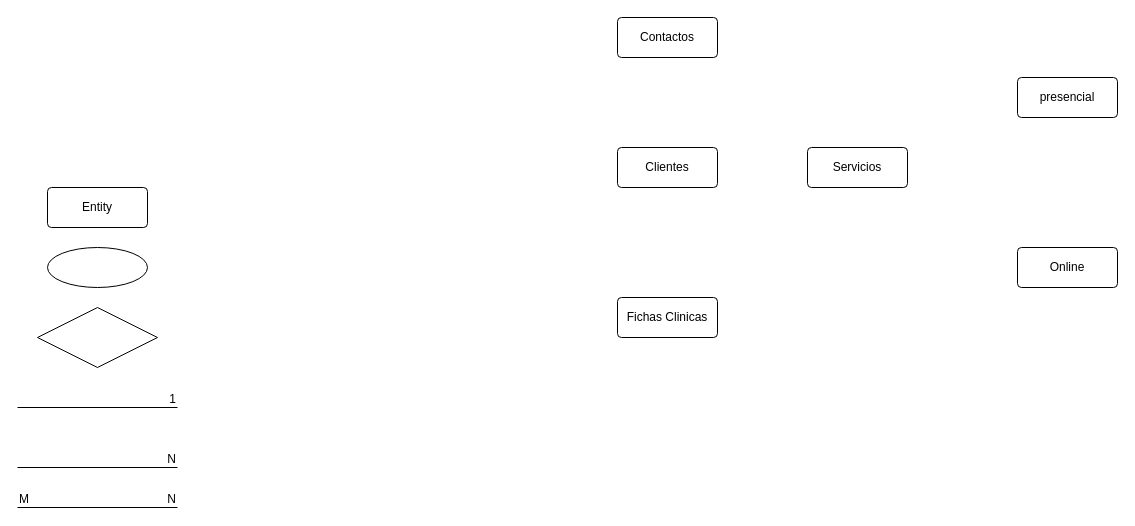
The diagram is 1135 pixels wide and 526 high, and some of its shapes have lost their labels. The shapes that lost their labels are listed below. From the top down, each one's box as (x1, y1, x2, y2) in pixels, then its label:
(46, 246, 148, 288): Attribute
(36, 306, 158, 368): Relationship
